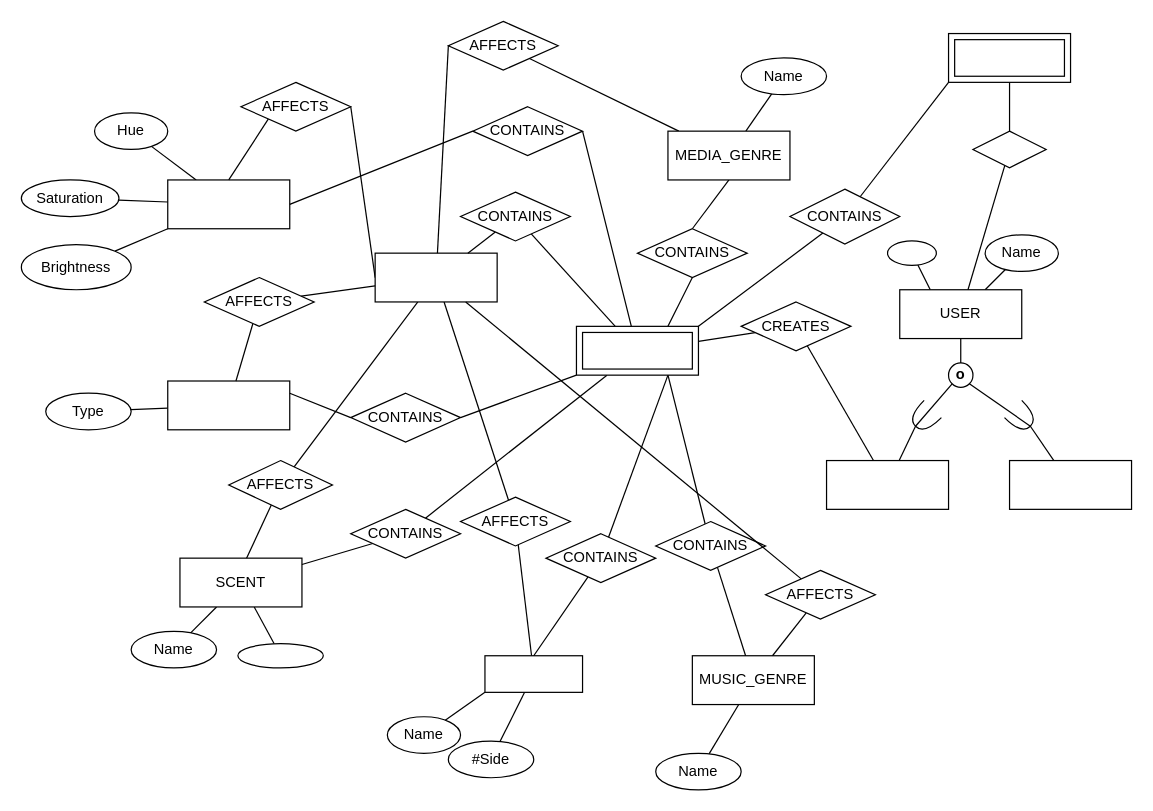
Image size: 1153x811. Some labels were removed from this diagram. Each missing label, with the centre of its shape:
"ADMIN" goes at [1070,484].
"CLIENT" goes at [887,484].
"COLOR" goes at [228,204].
"Family" goes at [280,655].
"HAVE" goes at [1009,149].
"ID" goes at [911,252].
"MOOD" goes at [435,277].
"Profile" goes at [1009,57].
"RESULT" goes at [636,350].
"SHAPE" goes at [533,673].
"TASTE" goes at [228,405].
